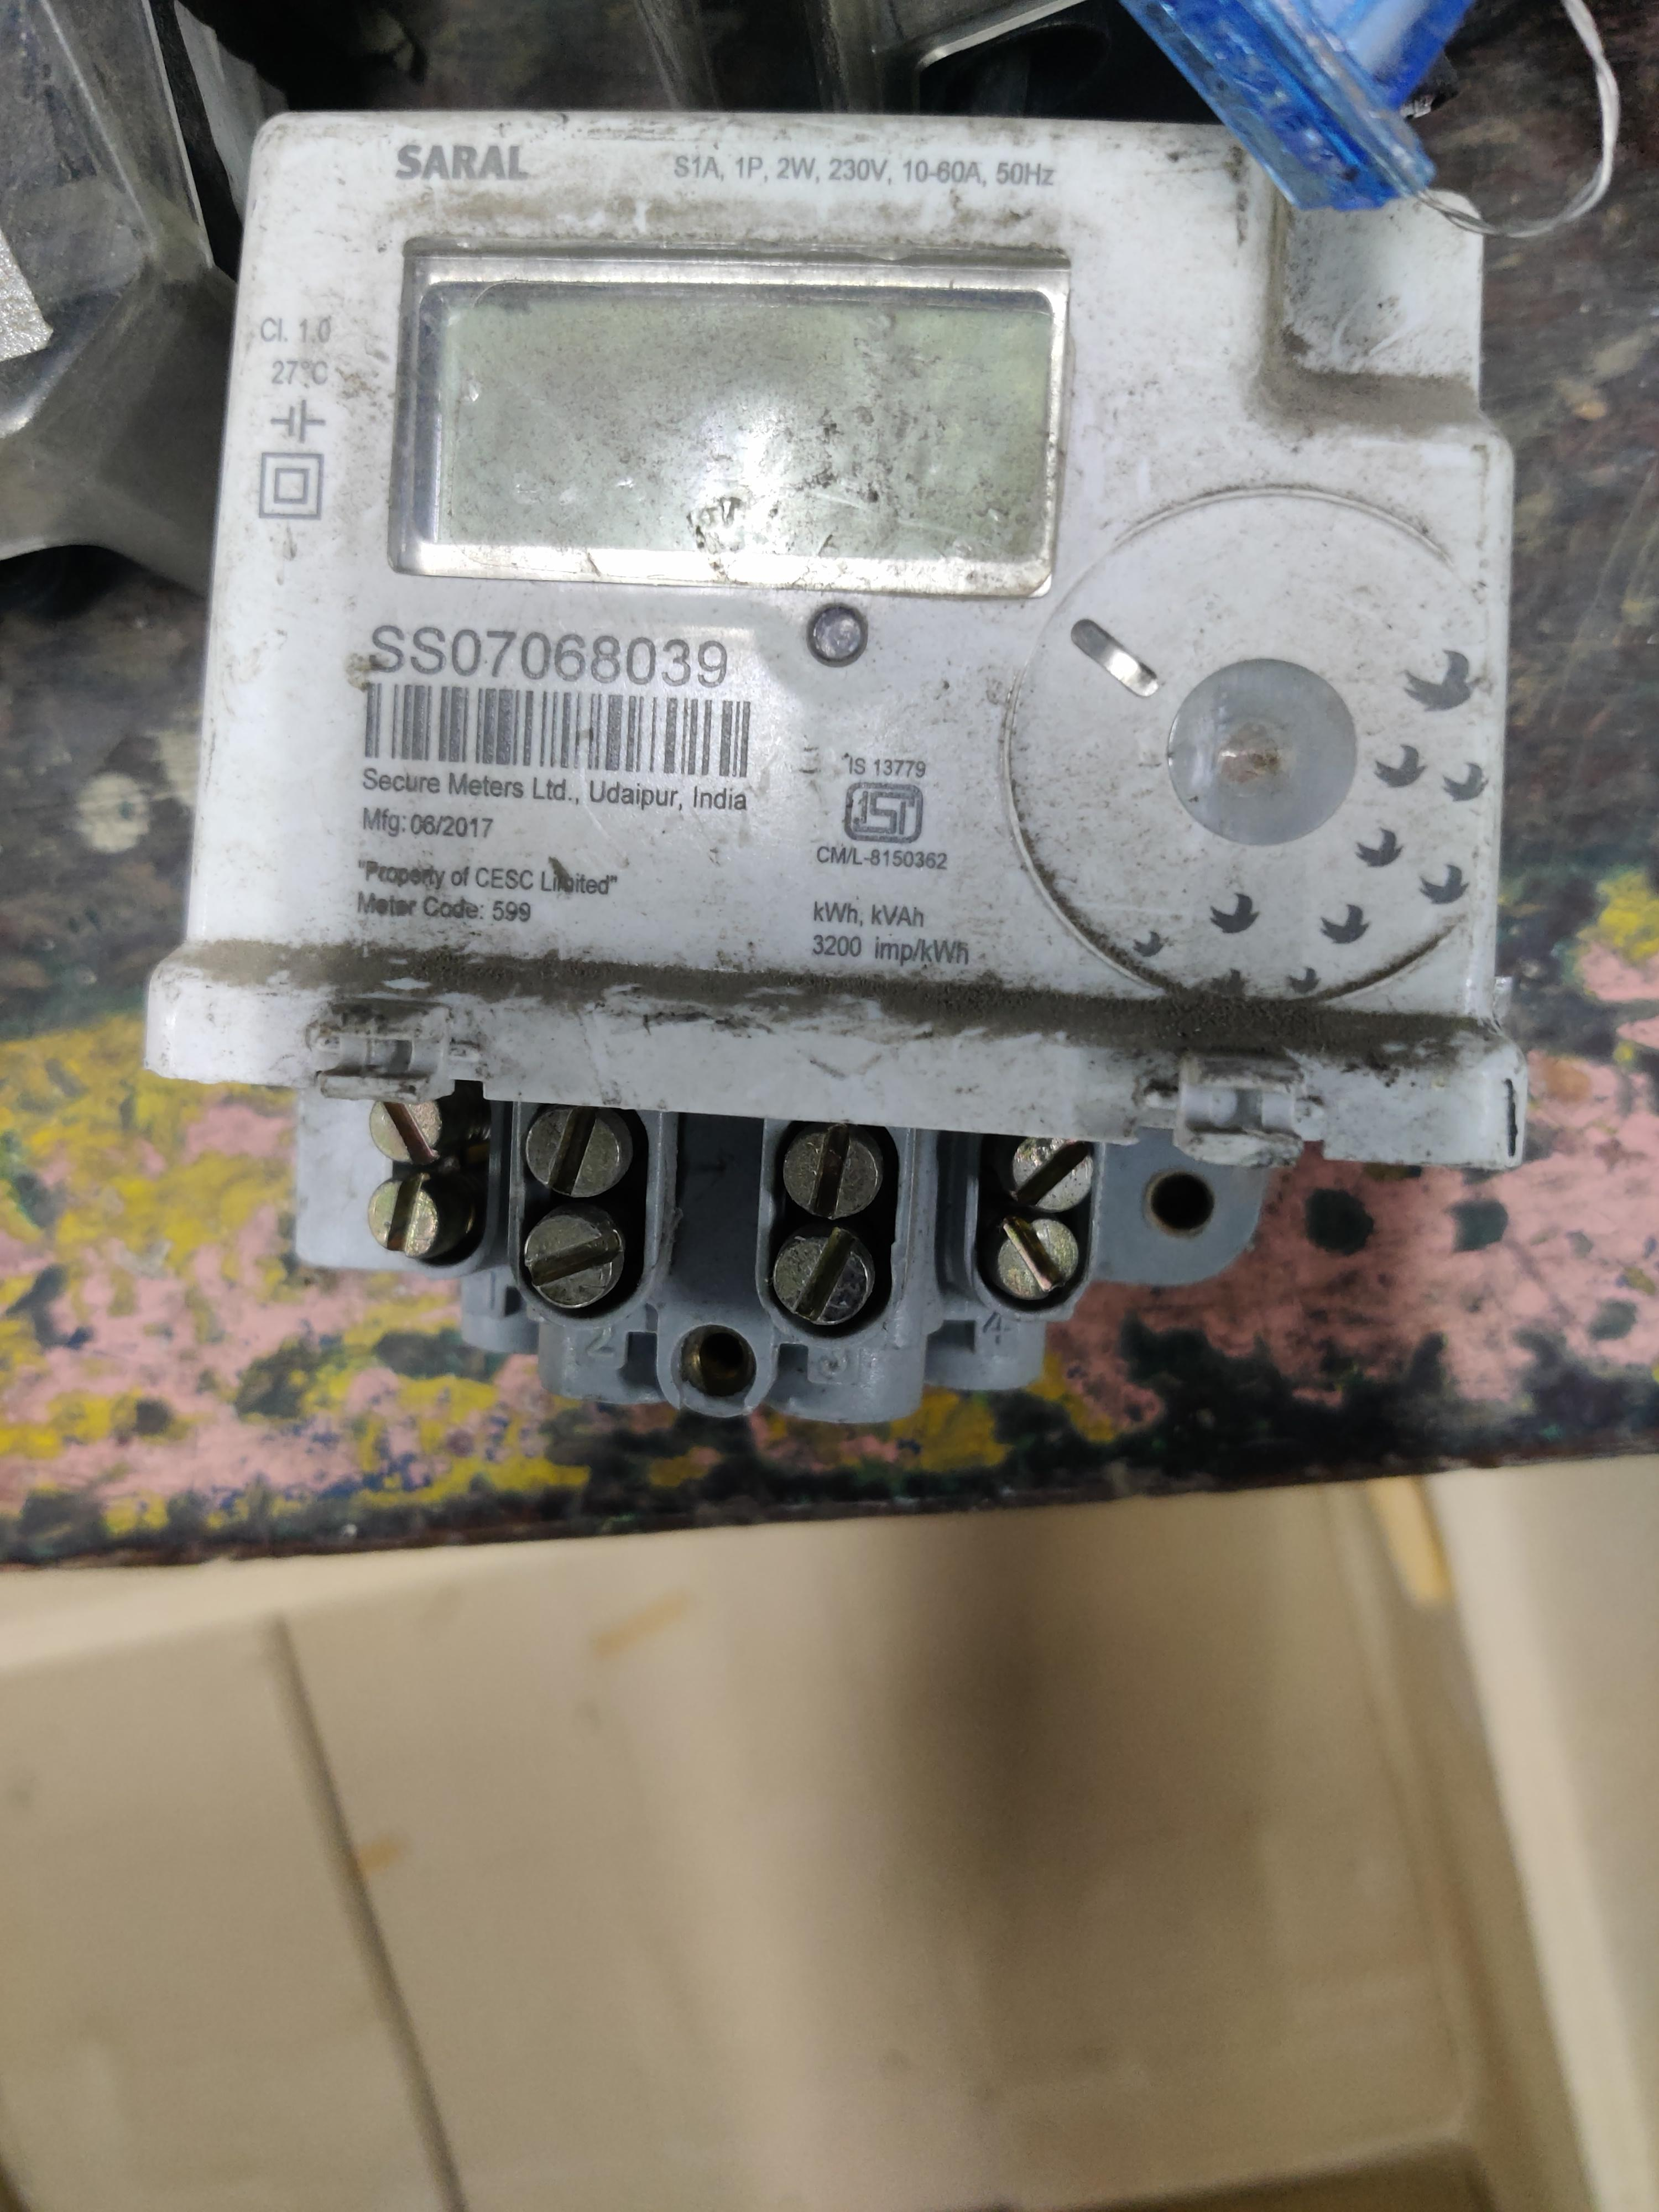meter_readings: (429, 266, 1016, 568)
serial_number: (369, 618, 756, 686)
